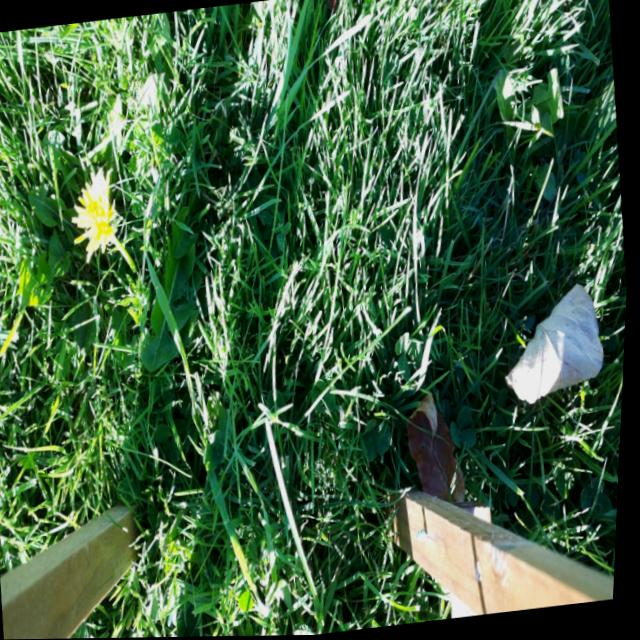base: (124, 252, 149, 291)
